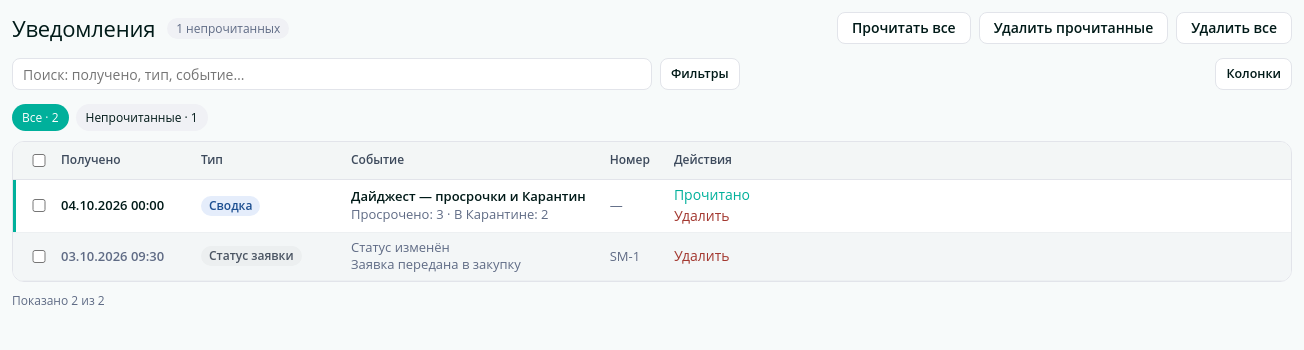
Test case: «Удалить все» empties the inbox
The width and height of the screenshot is (1304, 350).
Click the button "Удалить все" at (1234, 28), box [1176,12,1292,44]
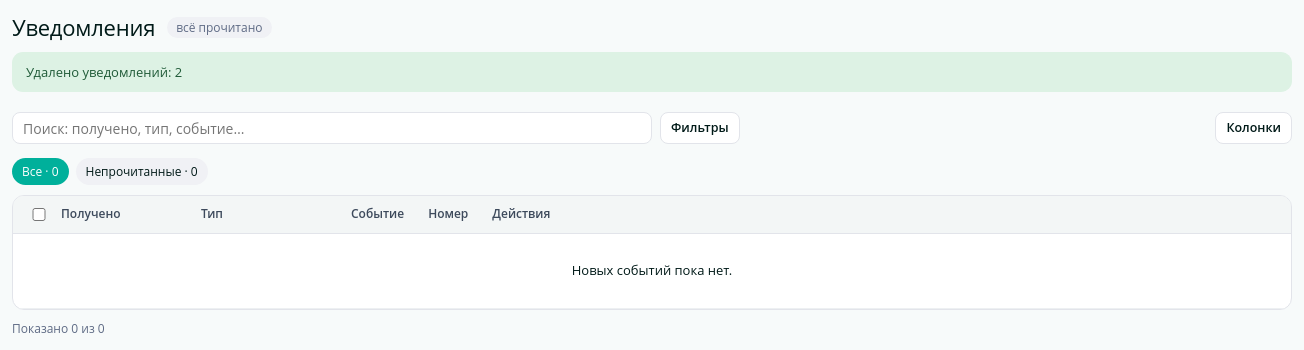
Expected: the text "Новых событий пока нет." is shown, [13,234,1291,308]
Expected: the button "Удалить все" is gone
Expected: the text "Удалено уведомлений: 2" is shown, [12,52,1292,92]
